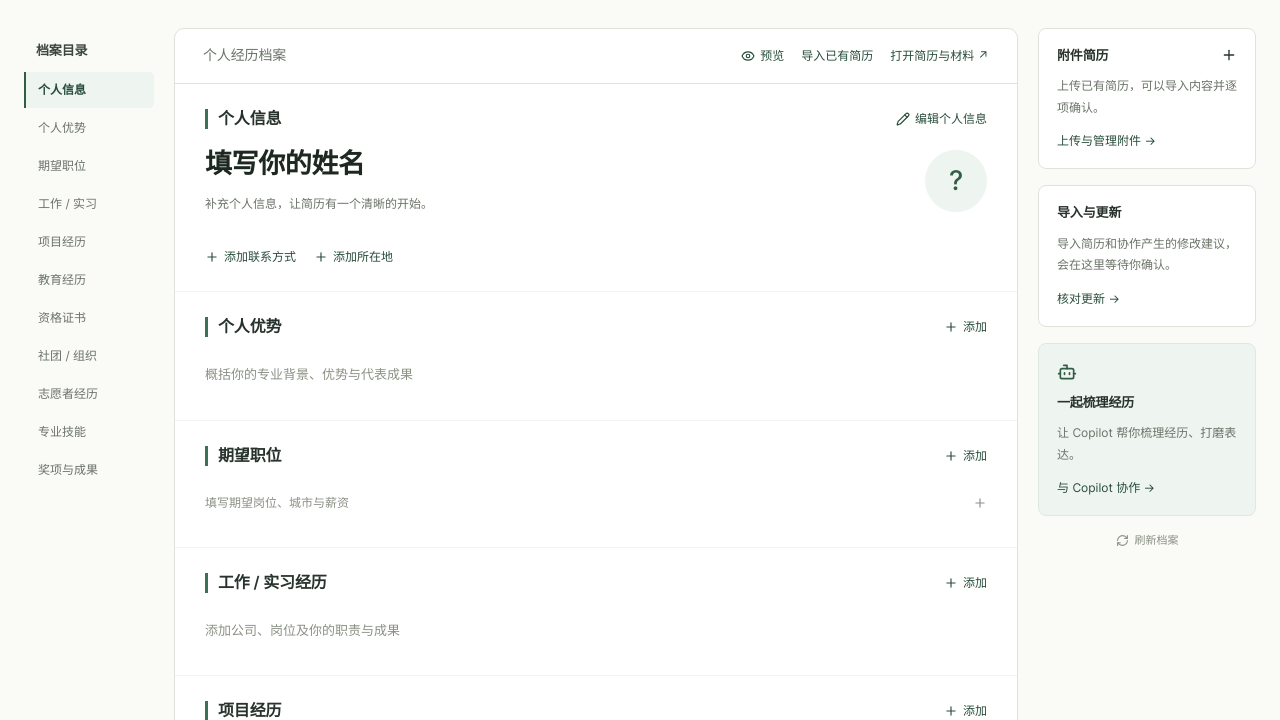
Test case: shows a continuous resume and edits personal information in its section
Check: the heading "个人经历档案" is shown, box [203, 47, 286, 65]
Check: the heading "个人优势" is shown, box [205, 317, 281, 337]
Click the button "编辑个人信息" at (942, 119), box [896, 110, 987, 128]
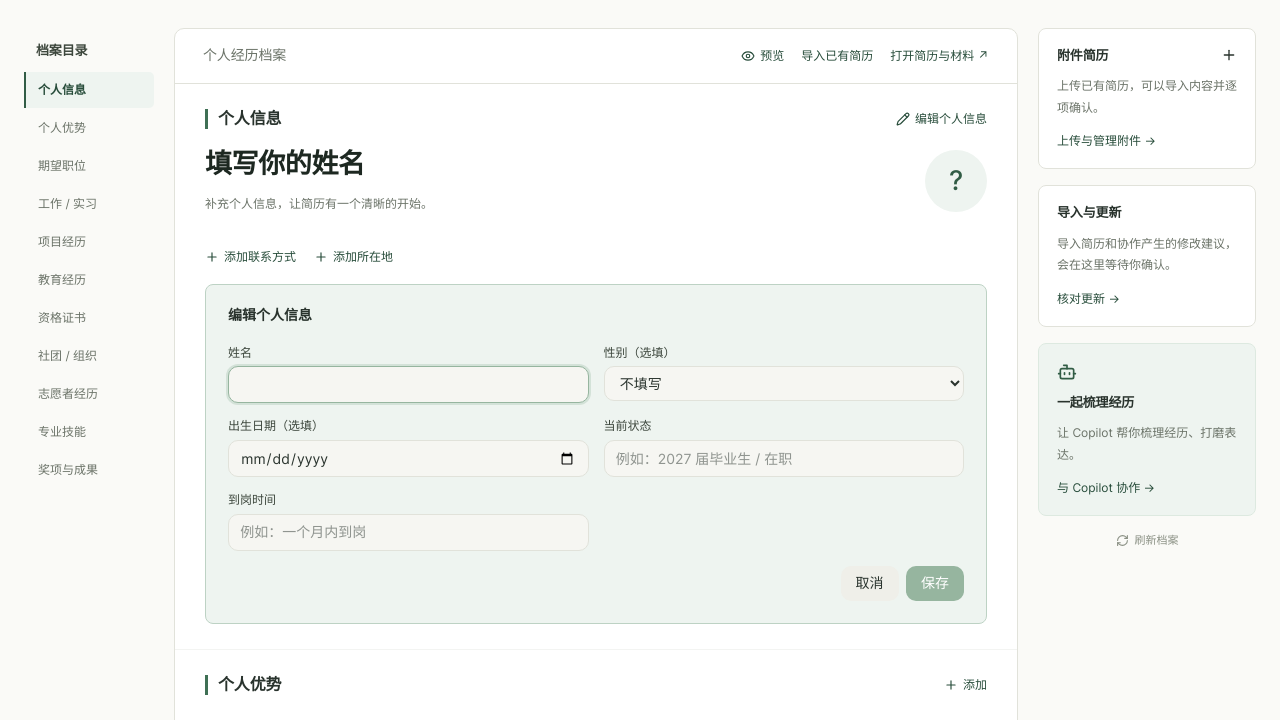
Type "合成候选人" into the field labelled "姓名" at (408, 385), box [228, 366, 588, 404]
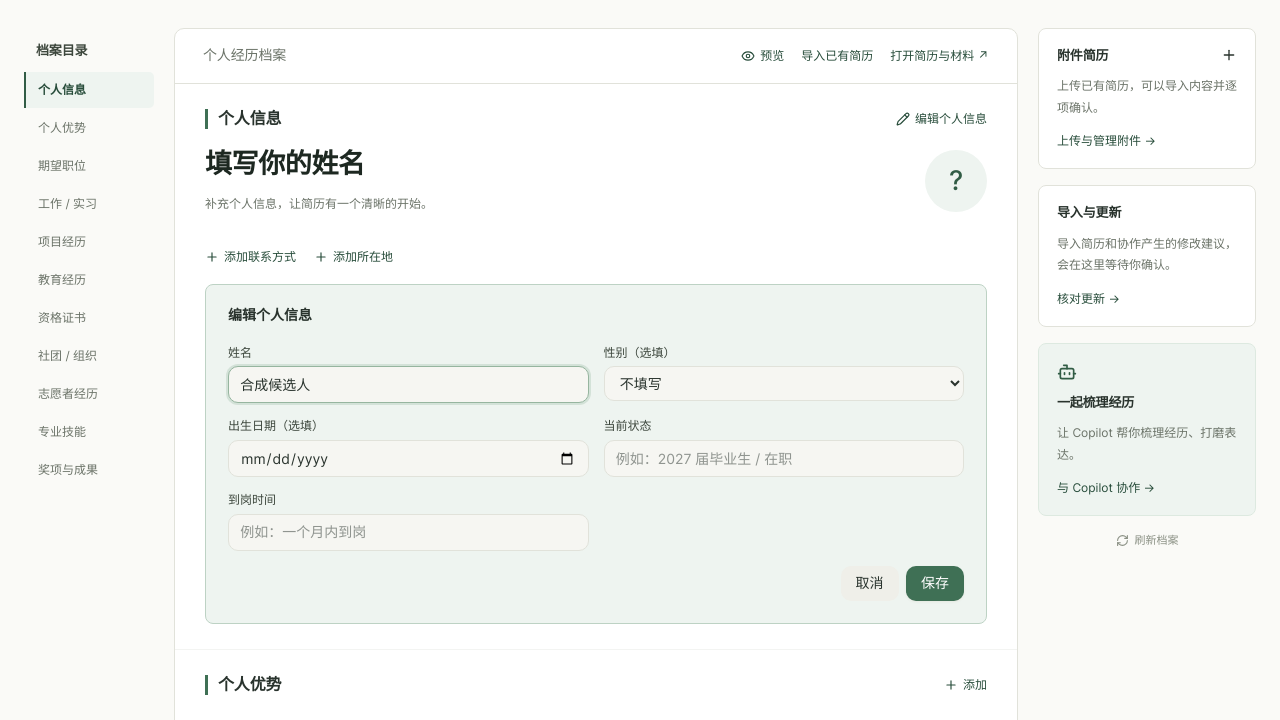
Type "应届毕业生" into the field labelled "当前状态" at (784, 459), box [604, 440, 964, 477]
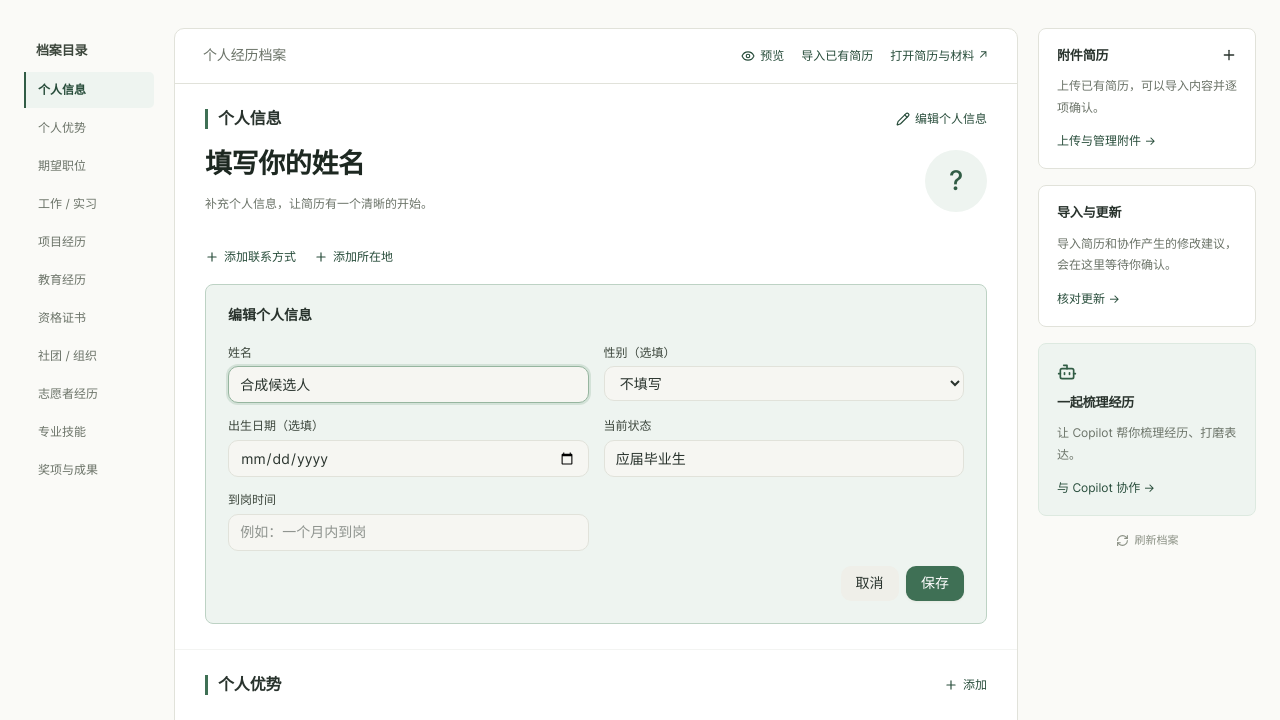
Click the button "保存" at (935, 583), box [906, 566, 964, 601]
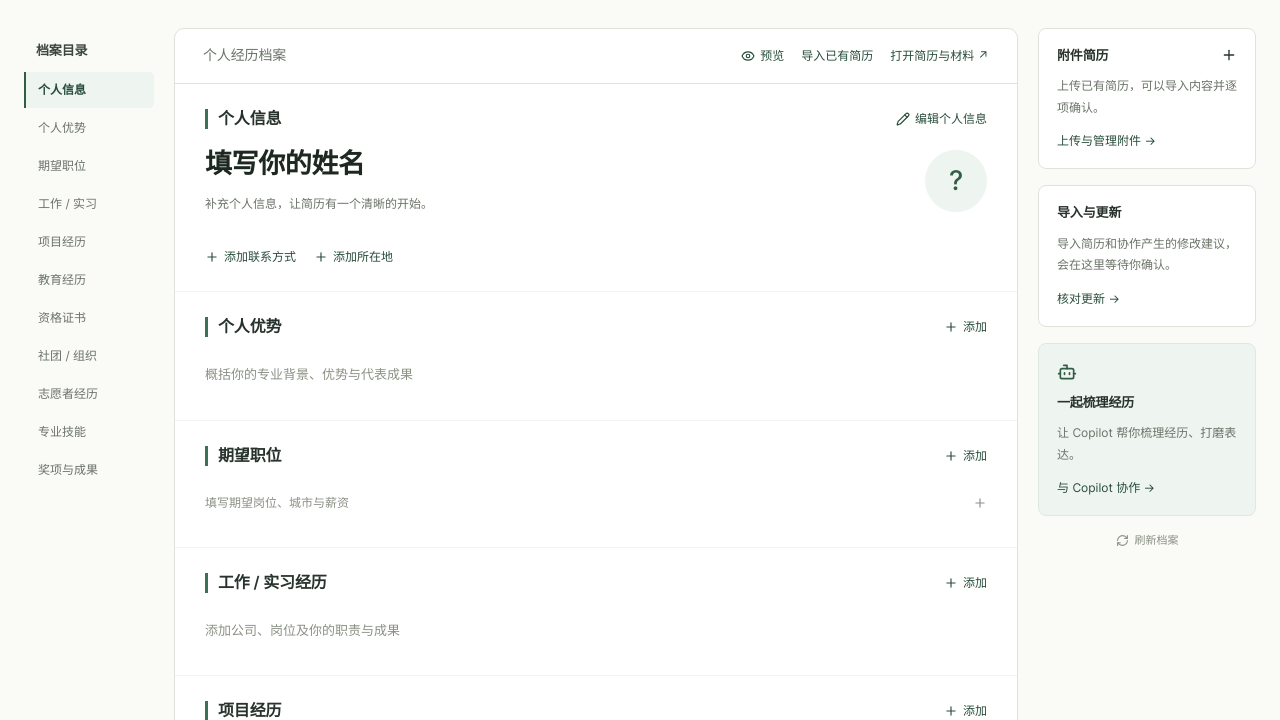
Check: the form is gone
